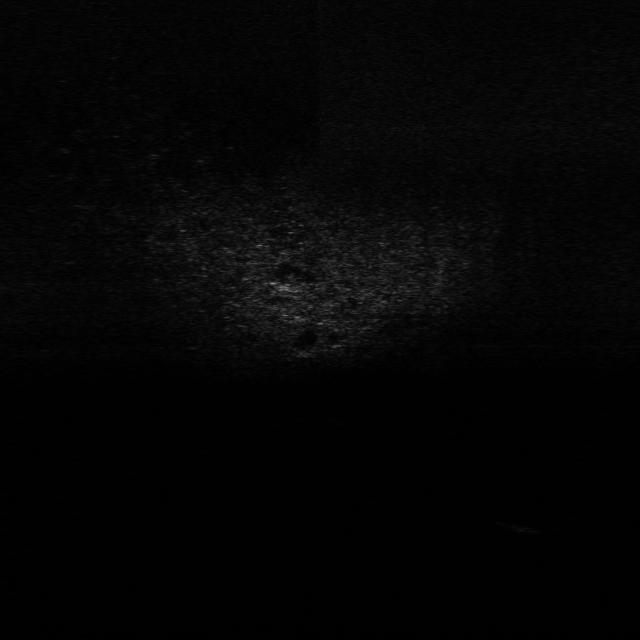cylinder: (497, 518, 549, 538)
